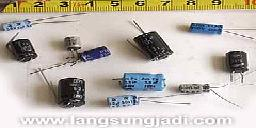Electrolytic Capacitor: (35, 62, 95, 113), (123, 17, 176, 65), (104, 93, 202, 115), (187, 20, 256, 42), (110, 69, 171, 89), (6, 31, 40, 66), (225, 48, 256, 86), (176, 81, 230, 101), (61, 30, 86, 53)
